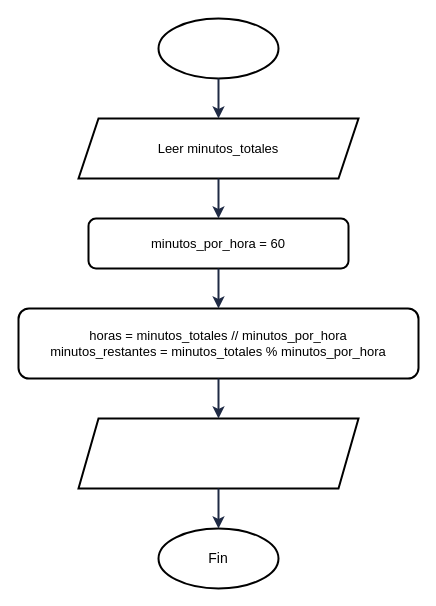
The diagram is 436 pixels wide and 606 high, and some of its shapes have lost their labels. Each missing label, with the centre of its shape:
"Imprimir horas, minutos_restantes" belongs at (x=218, y=453).
"Inicio" belongs at (x=218, y=48).
